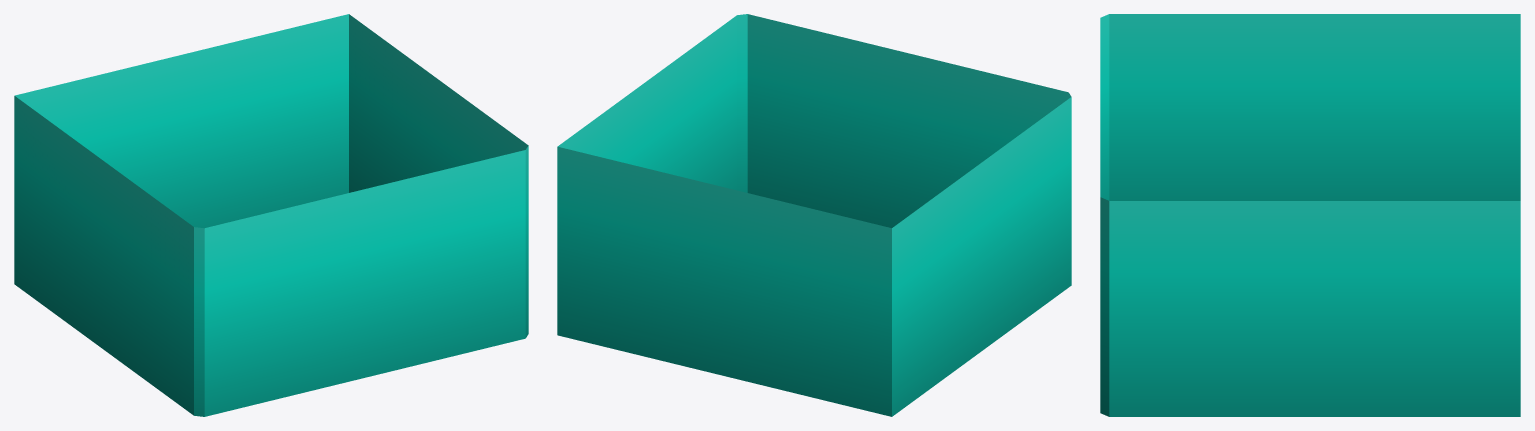
File: Counter_01_C05.fbx
The picture shows the model from 3 angles, left to right: view 1: azimuth 30°, elevation 25°; view 2: azimuth 150°, elevation 25°; view 3: azimuth 270°, elevation 25°; orthographic projection. The views are drawn at different scales.
Visible parts, largest first — view 1: Counter_01_C05; view 2: Counter_01_C05; view 3: Counter_01_C05.
Part boxes in pixels (bbox=[...]): Counter_01_C05: bbox=[14, 14, 528, 416]; Counter_01_C05: bbox=[557, 14, 1071, 416]; Counter_01_C05: bbox=[1100, 14, 1520, 416].
Bounding box in the file's own units: 100 × 53.91 × 94.97.
